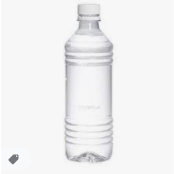Bottle: (64, 3, 114, 163)
